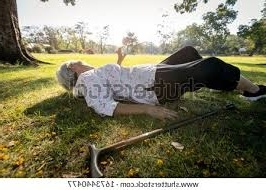fall: (55, 43, 263, 122)
